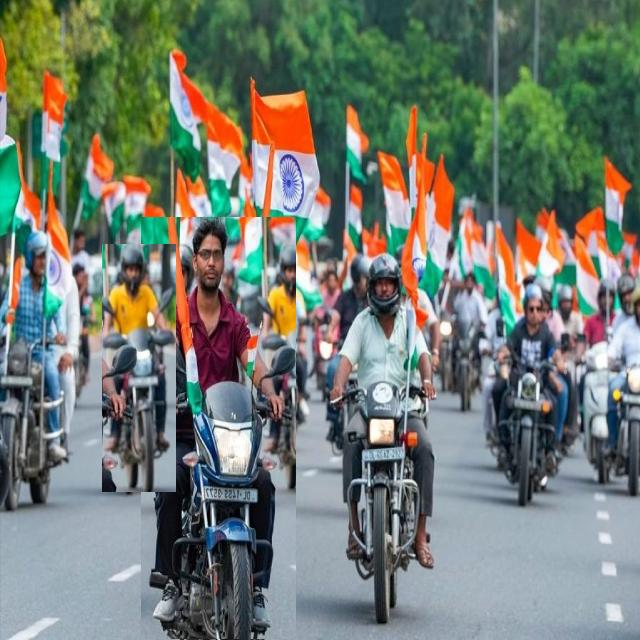motorcycle: (141, 217, 296, 640), (331, 254, 435, 621), (102, 244, 176, 492), (498, 284, 568, 504)
